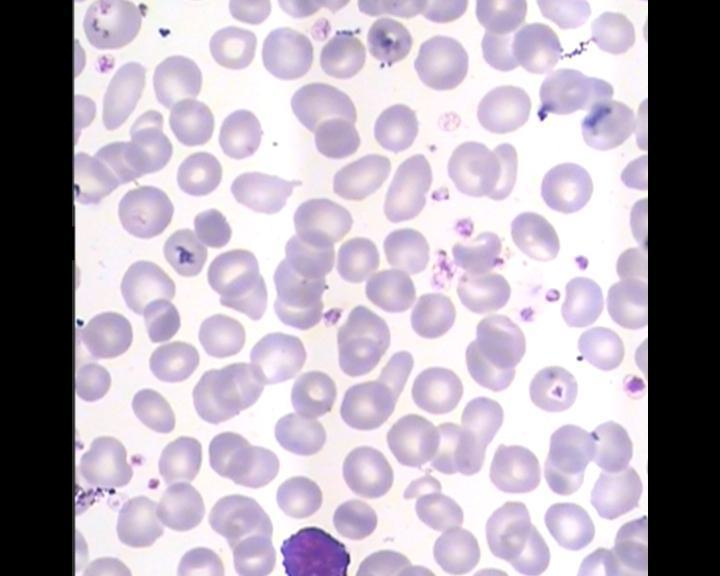baso: (277, 523, 353, 576)
